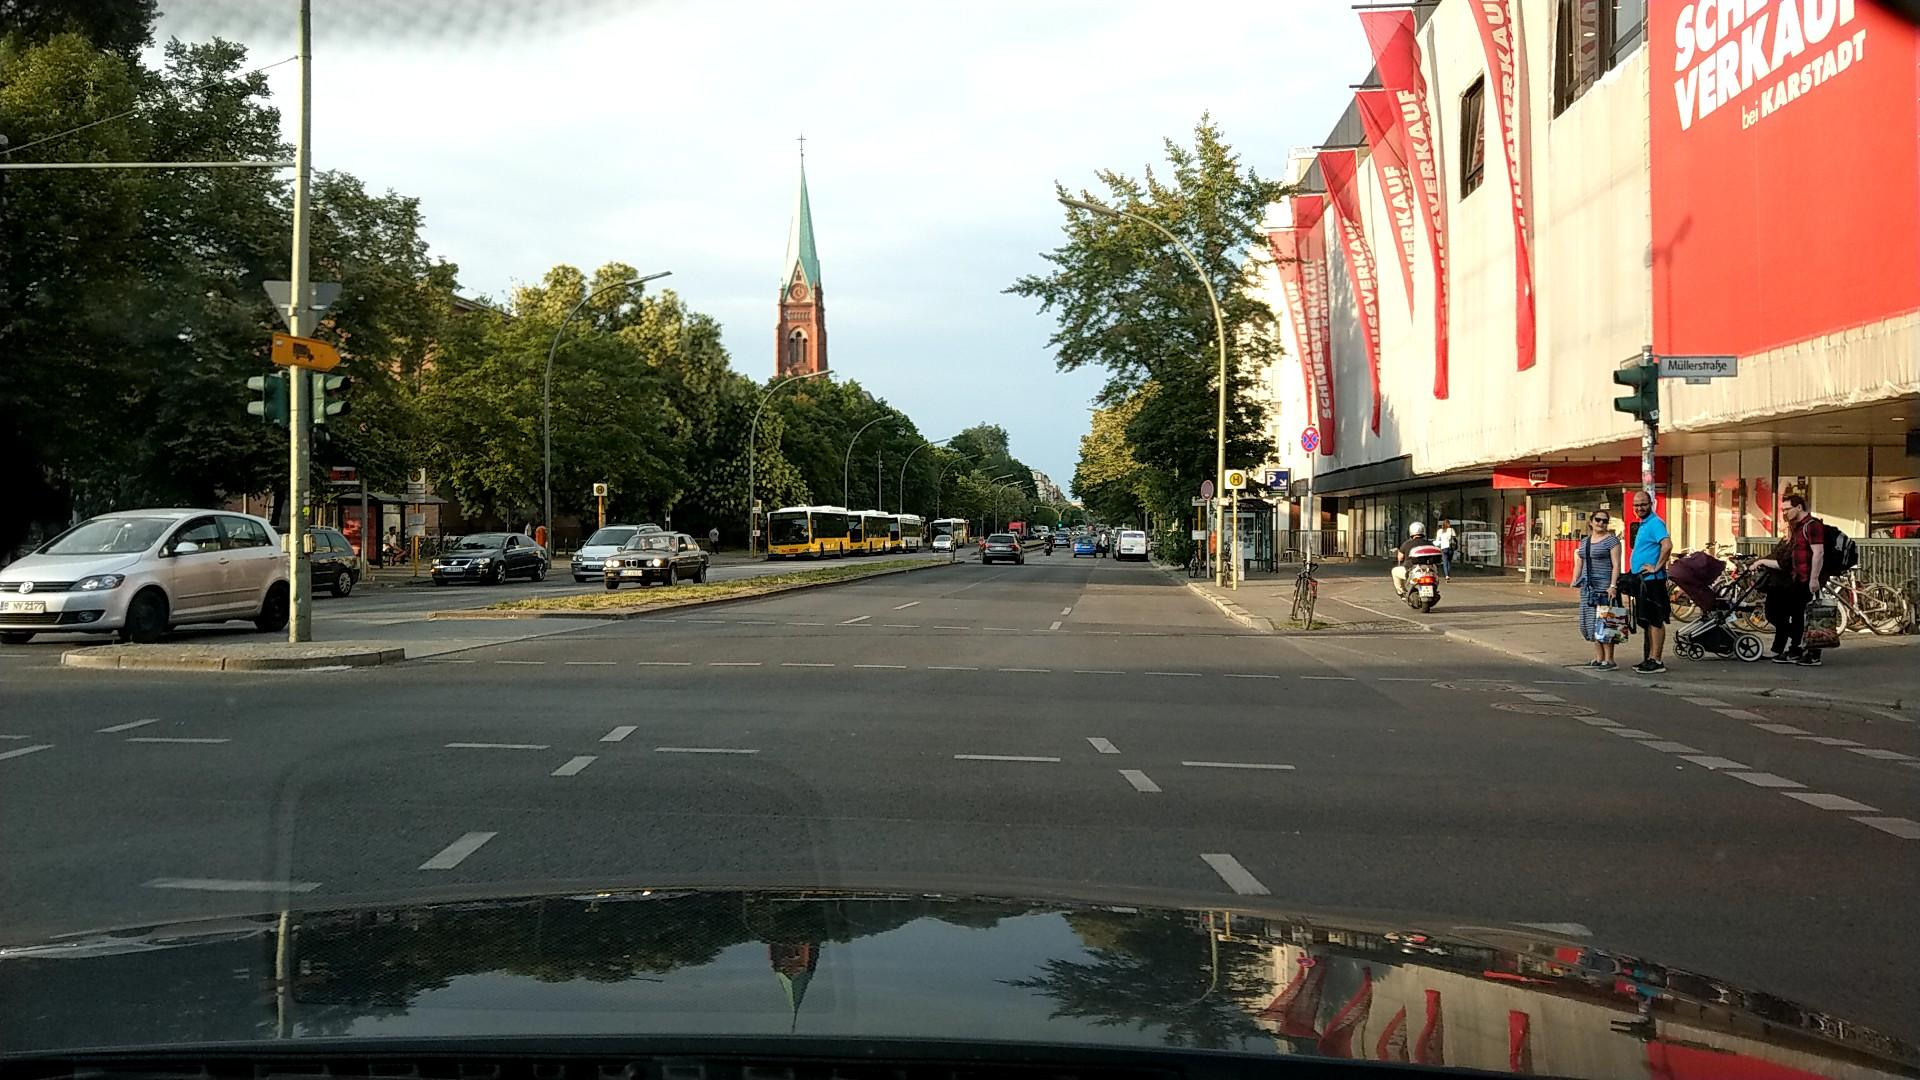Human face: (1781, 498, 1802, 523), (1633, 492, 1652, 518), (1590, 511, 1610, 533), (1775, 516, 1790, 534), (389, 526, 396, 535)
Vehicle registration plate: (1, 600, 43, 614), (620, 570, 643, 577), (443, 567, 463, 573), (586, 564, 604, 570)
